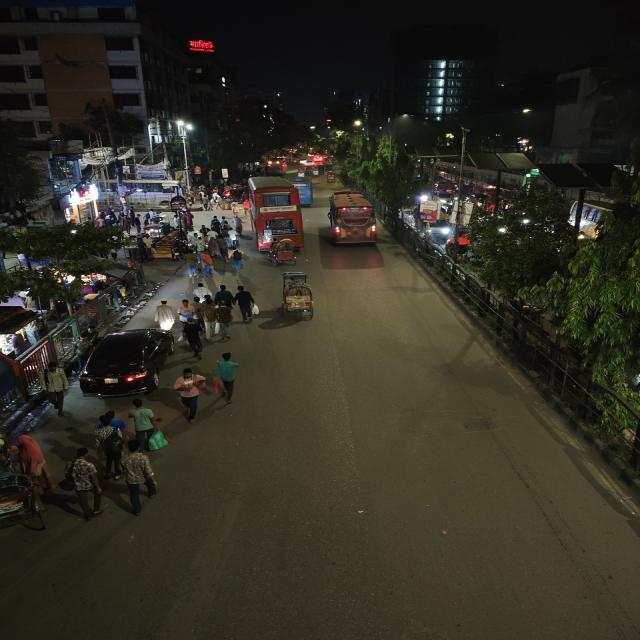bicycle: (230, 218, 243, 238)
bus: (247, 175, 307, 253), (324, 190, 380, 246)
car: (74, 324, 178, 400), (419, 214, 455, 240)
pedestrian: (116, 448, 163, 514), (61, 448, 106, 516), (0, 430, 48, 478), (170, 369, 208, 423), (128, 397, 160, 451), (96, 426, 129, 476), (213, 351, 242, 405), (42, 362, 70, 412), (180, 317, 208, 359), (92, 408, 122, 446), (233, 284, 258, 322), (211, 302, 236, 340), (152, 298, 177, 330), (195, 299, 216, 334), (183, 248, 205, 281), (195, 246, 216, 278), (229, 249, 248, 277), (214, 283, 233, 308), (192, 281, 211, 305), (175, 299, 194, 322)
rickshaw: (0, 442, 51, 536), (277, 271, 318, 323), (268, 238, 300, 266)
truck: (416, 203, 455, 239)
